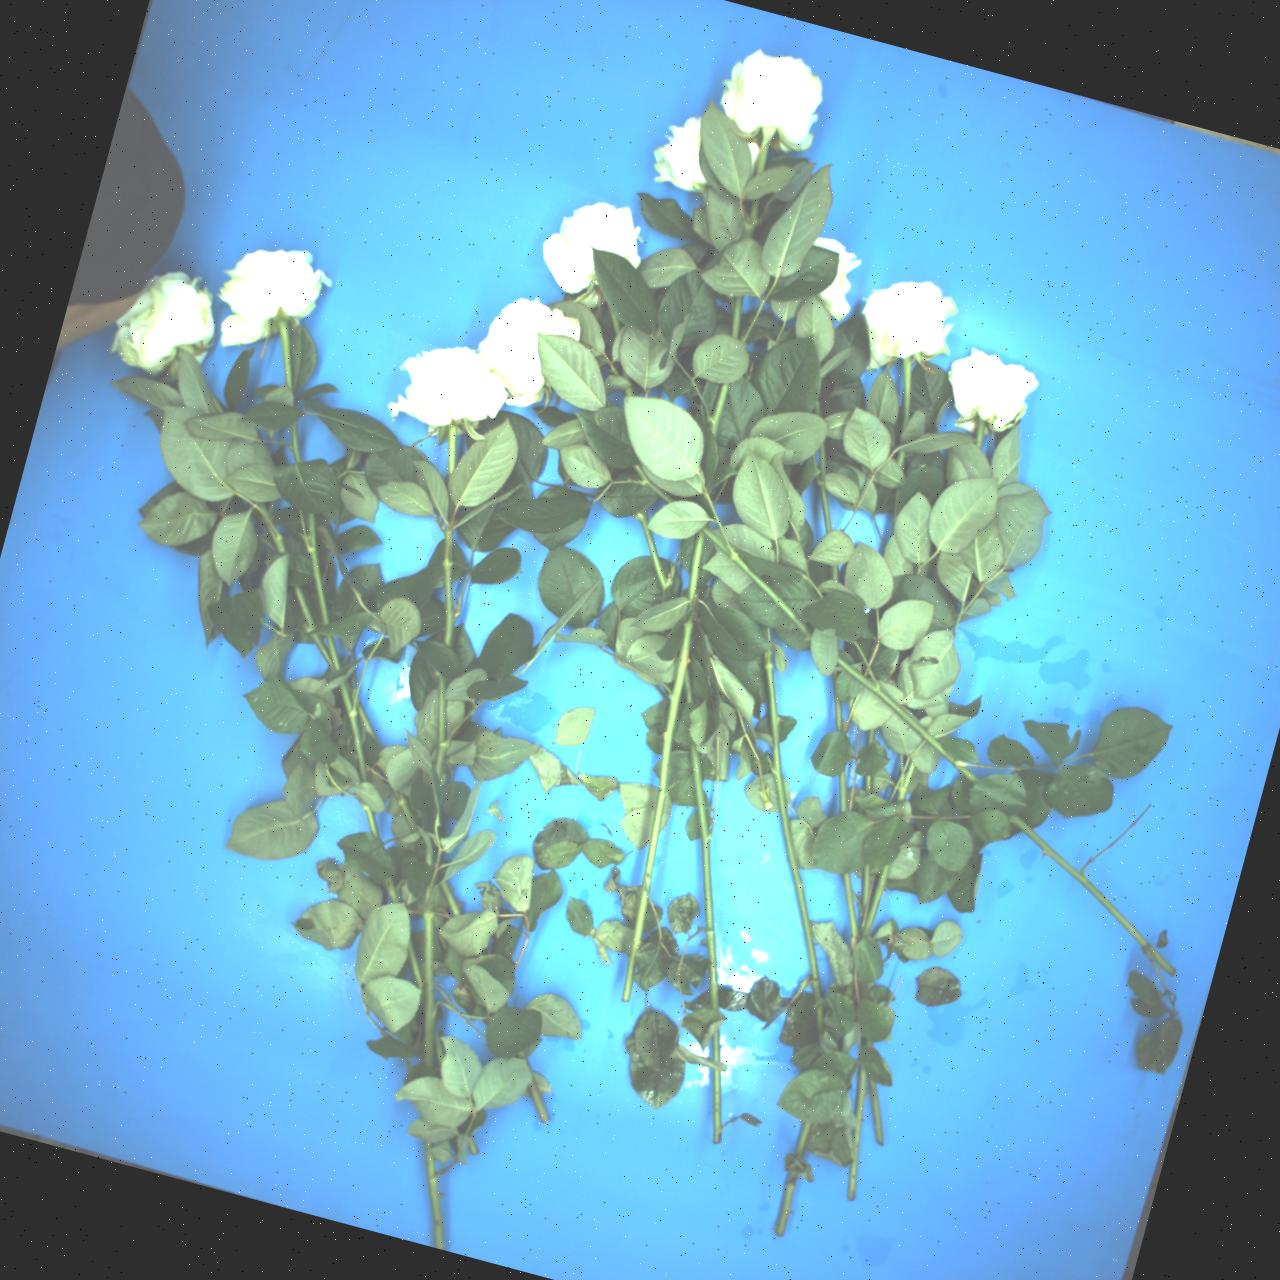Stem: (620, 531, 707, 1002), (1007, 809, 1179, 980), (750, 624, 823, 1003), (833, 651, 980, 787), (700, 522, 816, 644), (690, 740, 720, 1010), (287, 584, 336, 676), (772, 1121, 811, 1235), (632, 510, 670, 597), (301, 510, 329, 625), (338, 681, 368, 784), (845, 1063, 867, 1200), (421, 1139, 447, 1251), (343, 679, 380, 749), (422, 886, 435, 1068), (860, 863, 890, 941), (430, 670, 450, 779), (628, 463, 673, 510), (441, 511, 455, 648), (253, 499, 287, 554), (840, 873, 862, 952), (813, 443, 831, 533), (702, 380, 729, 438), (865, 1075, 885, 1146), (393, 788, 418, 833), (525, 1078, 550, 1124), (359, 795, 380, 842), (899, 361, 912, 431), (406, 940, 423, 989), (279, 324, 292, 390), (896, 761, 915, 803), (438, 880, 461, 917), (831, 669, 843, 731), (712, 1069, 721, 1144), (729, 295, 743, 339), (325, 633, 341, 669), (744, 199, 760, 238), (755, 138, 770, 176), (860, 864, 870, 921), (430, 1029, 445, 1064), (290, 420, 301, 462), (607, 304, 621, 335), (449, 425, 457, 475), (681, 669, 693, 703), (384, 877, 399, 905), (206, 393, 224, 415), (620, 368, 633, 396), (838, 770, 846, 812), (974, 421, 985, 449), (712, 1029, 721, 1061), (465, 1136, 478, 1156), (892, 488, 899, 522), (894, 450, 905, 471), (811, 400, 822, 418), (425, 844, 434, 867), (866, 729, 876, 745), (831, 565, 839, 583), (864, 775, 871, 792), (515, 1050, 526, 1058), (865, 1037, 873, 1048)
flower: (97, 257, 239, 399), (462, 284, 583, 414), (531, 188, 653, 299), (713, 42, 830, 154), (932, 342, 1042, 448), (386, 345, 509, 434), (220, 250, 331, 347), (855, 273, 965, 369), (651, 117, 707, 197), (812, 238, 862, 322), (748, 139, 762, 172)
